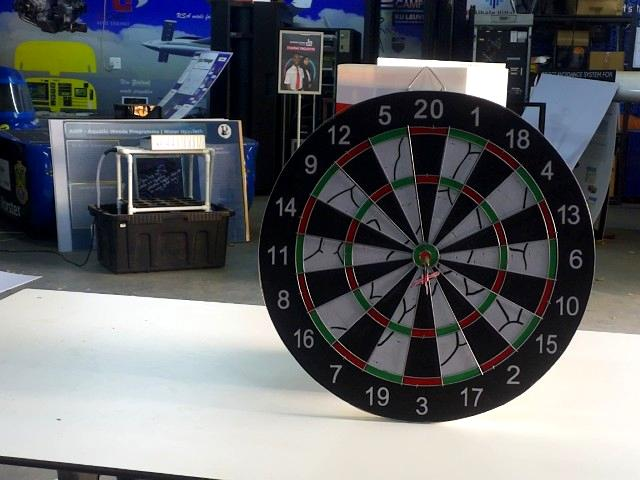bullseye: (423, 251, 433, 264)
